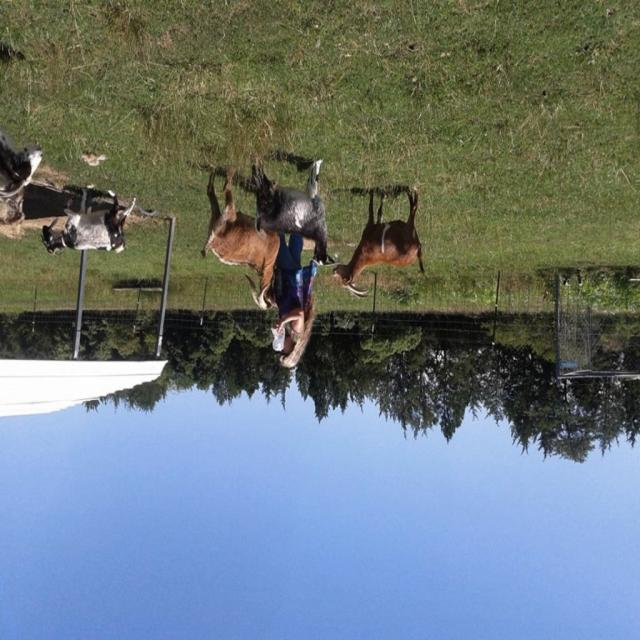Goat: (200, 166, 280, 312), (332, 188, 425, 300), (251, 158, 336, 268), (40, 188, 136, 257)
